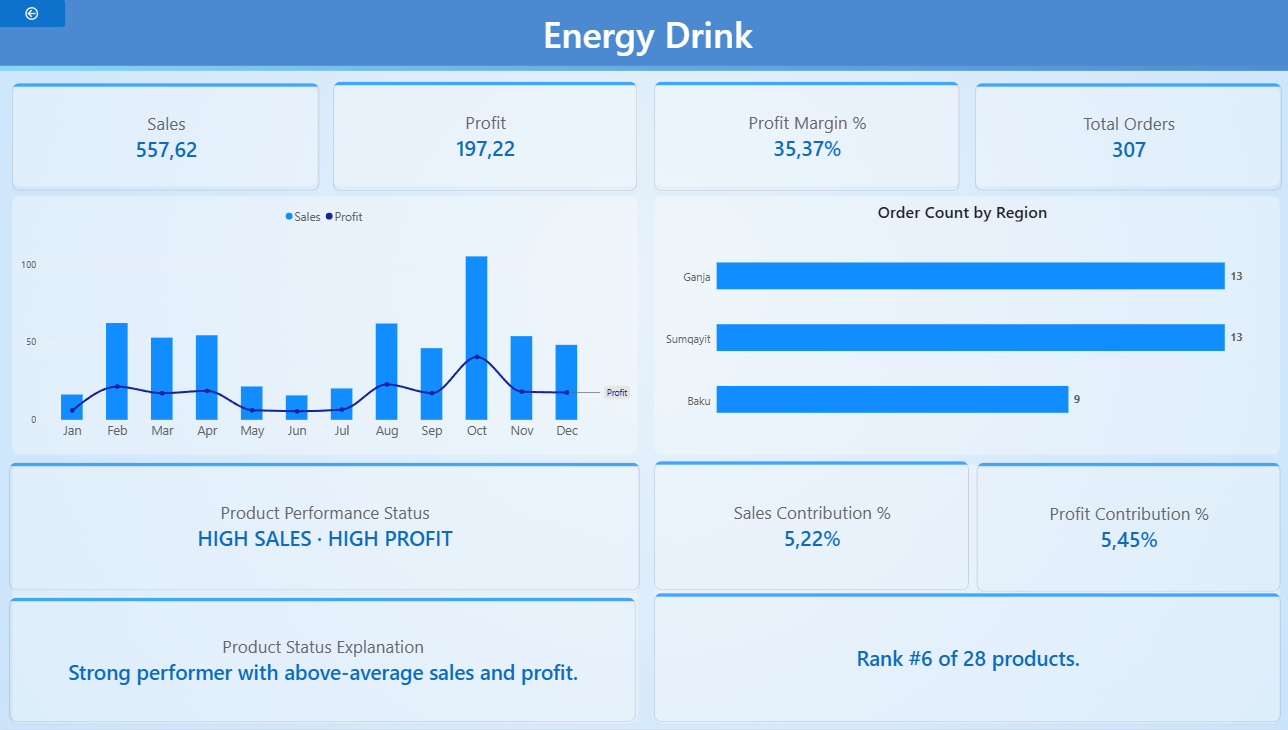

This screenshot's page, from the dashboard's own definition file:
{"tool":"powerbi","page":{"name":"Product Details","canvas":[1920,1080],"ordinal":4},"visuals":[{"type":"actionButton","box":[0,0,100,40],"z":0},{"type":"cardVisual","fields":{"Data":["_Measures.Sales"]},"box":[14.6,117.1,466,170.8],"z":2},{"type":"cardVisual","fields":{"Data":["_Measures.Profit"]},"box":[490.4,114.7,461.1,173.2],"z":3},{"type":"cardVisual","fields":{"Data":["_Measures.Profit Margin %"]},"box":[966.2,114.7,463.6,173.2],"z":4},{"type":"cardVisual","fields":{"Data":["_Measures.Total Orders"]},"box":[1442.5,117.5,465,170],"z":5},{"type":"lineClusteredColumnComboChart","title":"Sales and Profit by Month","fields":{"Category":["DimDate.MonthName"],"Y":["_Measures.Sales"],"Y2":["_Measures.Profit"]},"box":[17.1,287.9,934.4,383.1],"z":6},{"type":"clusteredBarChart","fields":{"Category":["DimRegion.Region"],"Y":["_Measures.Product Sales Count"]},"box":[966.2,283,924.7,387.9],"z":7},{"type":"cardVisual","fields":{"Data":["_Measures.Product Performance Status"]},"box":[12.2,680.7,945.8,200.1],"z":8},{"type":"cardVisual","fields":{"Data":["_Measures.Product Status Explanation"]},"box":[12.2,880.8,939.3,195.2],"z":9},{"type":"cardVisual","fields":{"Data":["_Measures.Sales Contribution %"]},"box":[966.3,677.5,477.8,202.4],"z":10},{"type":"cardVisual","fields":{"Data":["_Measures.Profit Contribution %"]},"box":[1444.1,680.2,461.6,202.4],"z":11},{"type":"cardVisual","fields":{"Data":["_Measures.Product Rank Label"]},"box":[966.2,873.5,939.3,202.5],"z":12},{"type":"cardVisual","fields":{"Data":["Min(Products.ProductName)"]},"box":[17.1,0,1890.9,97.6],"z":13}]}

Visuals, with their boxes in screenshot pixels (x1, y1, x2, y2), scaled from the page's 1920x1080 canvas onto the 1288x730 screenshot:
actionButton: [0, 0, 67, 27]
cardVisual - _Measures.Sales: [10, 79, 322, 195]
cardVisual - _Measures.Profit: [329, 78, 638, 195]
cardVisual - _Measures.Profit Margin %: [648, 78, 959, 195]
cardVisual - _Measures.Total Orders: [968, 79, 1280, 194]
"Sales and Profit by Month" lineClusteredColumnComboChart: [11, 195, 638, 454]
clusteredBarChart - DimRegion.Region x _Measures.Product Sales Count: [648, 191, 1268, 453]
cardVisual - _Measures.Product Performance Status: [8, 460, 643, 595]
cardVisual - _Measures.Product Status Explanation: [8, 595, 638, 727]
cardVisual - _Measures.Sales Contribution %: [648, 458, 969, 595]
cardVisual - _Measures.Profit Contribution %: [969, 460, 1278, 597]
cardVisual - _Measures.Product Rank Label: [648, 590, 1278, 727]
cardVisual - Min(Products.ProductName): [11, 0, 1280, 66]
